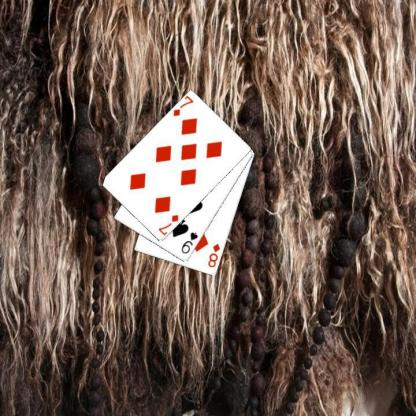7D: (155, 212, 180, 236), (170, 94, 195, 118)
8D: (205, 241, 221, 269)
9S: (178, 230, 200, 255)
